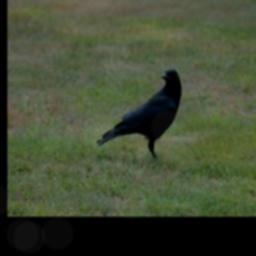Crow: (96, 66, 182, 161)
